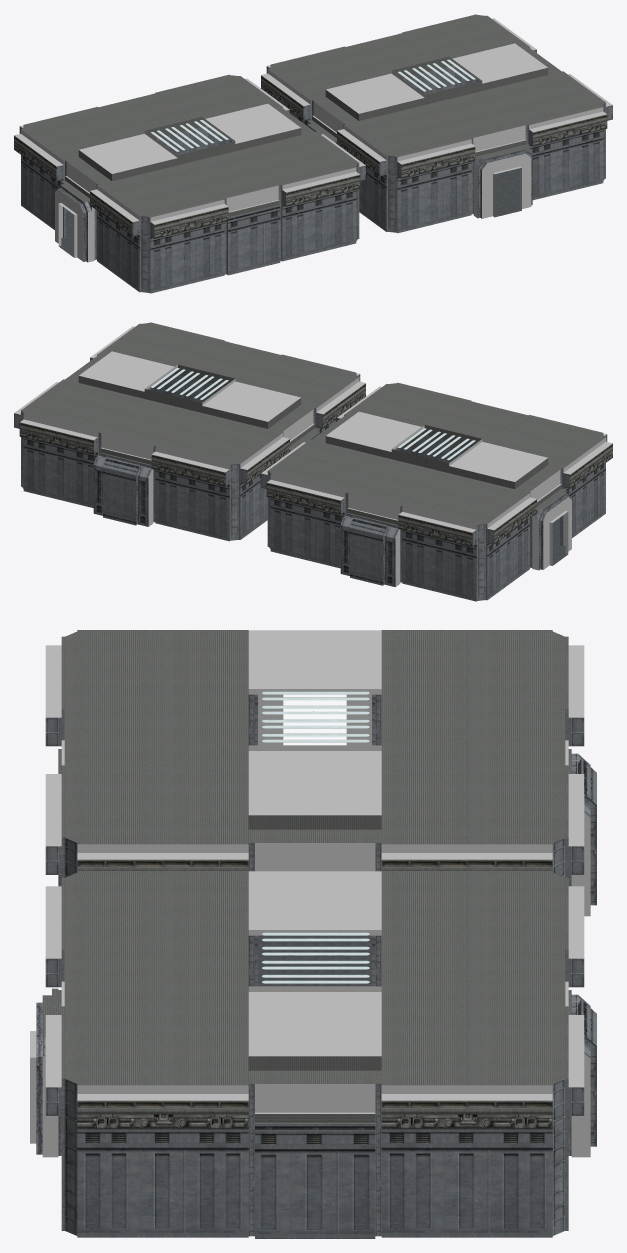
The model's file is poi_all_impl_bunker_warren_s01_r65_smallroom65_mesh_r65.fbx.
The picture shows the model from 3 angles, top to bottom: view 1: azimuth 30°, elevation 25°; view 2: azimuth 150°, elevation 25°; view 3: azimuth 270°, elevation 25°; orthographic projection. The views are drawn at different scales.
Parts seen in each view (by area): view 1: mesh_node; view 2: mesh_node; view 3: mesh_node.
Part boxes in pixels (bbox=[...]): mesh_node: bbox=[14, 14, 612, 293]; mesh_node: bbox=[14, 322, 612, 601]; mesh_node: bbox=[30, 630, 596, 1238].
Bounding box in the file's own units: 35.5 × 6 × 17.9.
